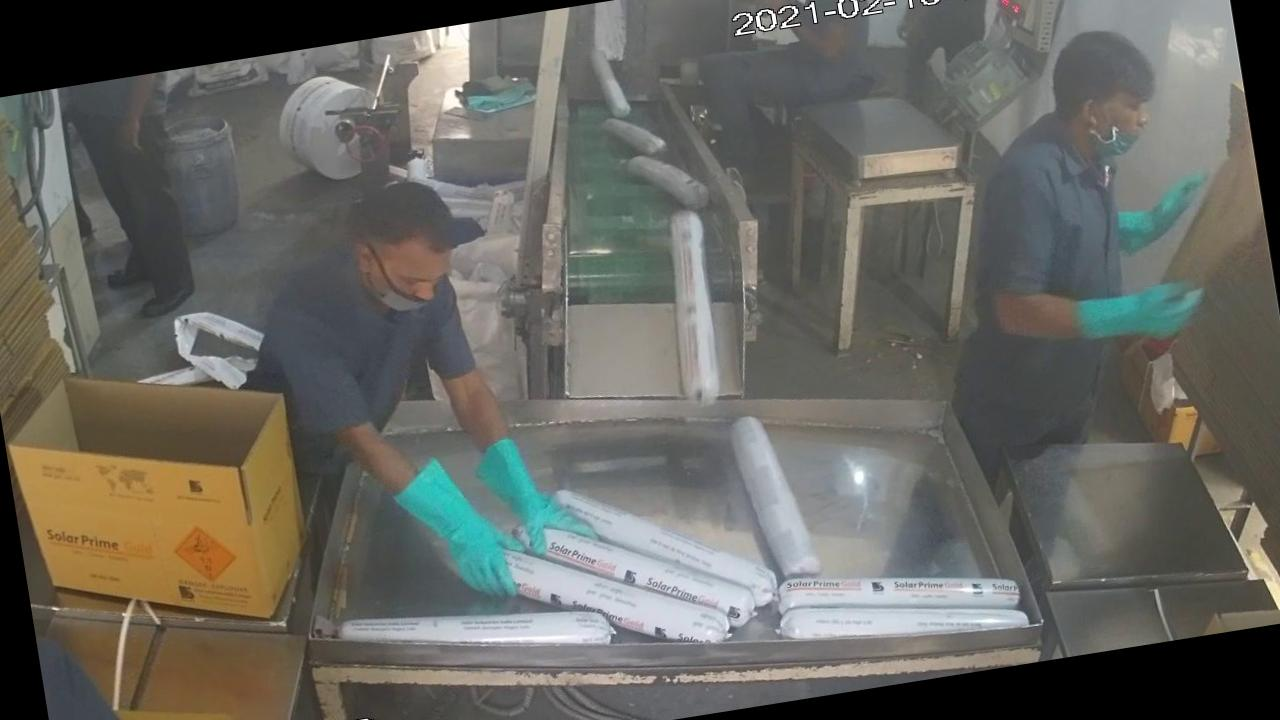Gloves: (373, 435, 534, 628), (438, 408, 610, 580), (1052, 255, 1224, 369), (1100, 151, 1226, 270)
No-gloves: (89, 71, 185, 174), (758, 0, 863, 66)
